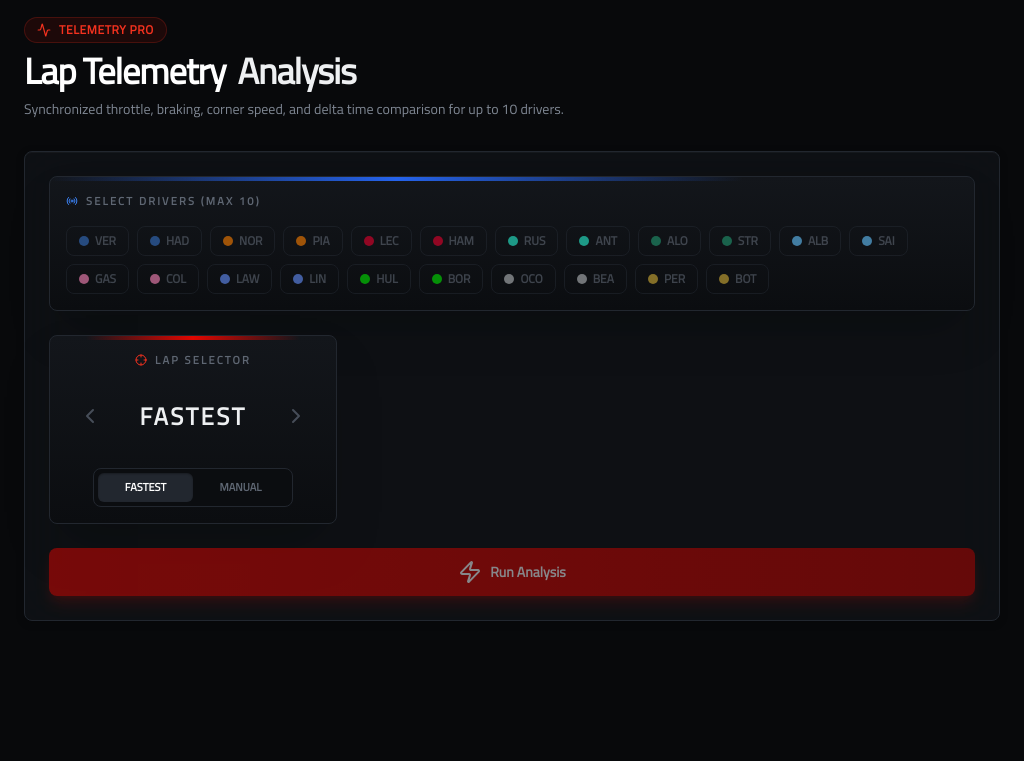
Test case: TelemetryTab with partial backend payloads › renders the unavailable reasons instead of crashing on a partial payload
Click the button "VER": (98, 240) [66,226,129,256]
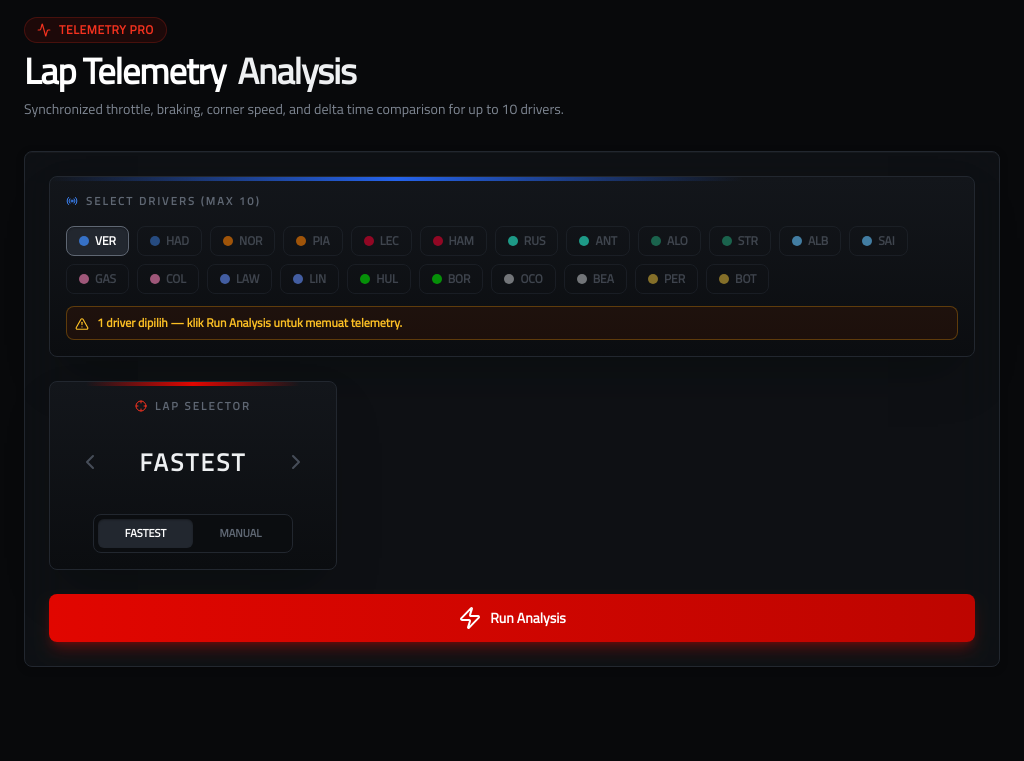
Click the button "Run Analysis": (512, 618) [49,594,975,642]
(page scrolled)
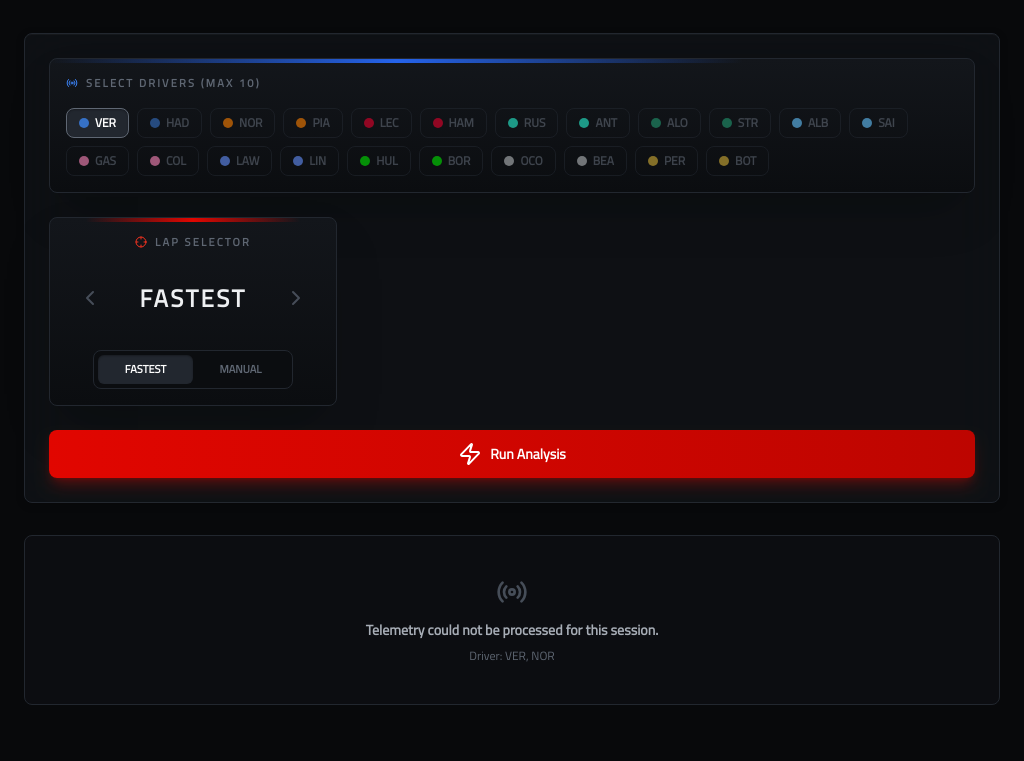
Now the text "Telemetry could not be processed for this session." is shown, box [366,618,658,640]
Now the text "Driver: VER, NOR" is shown, box [469,646,555,664]
